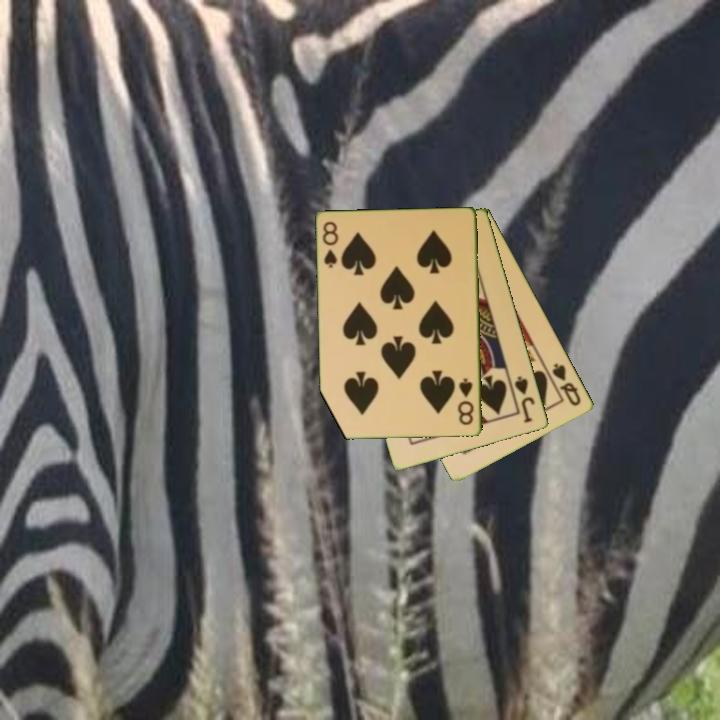8s: (455, 375, 477, 428), (319, 218, 341, 271)
Js: (511, 373, 538, 426)
Qs: (549, 360, 584, 409)
